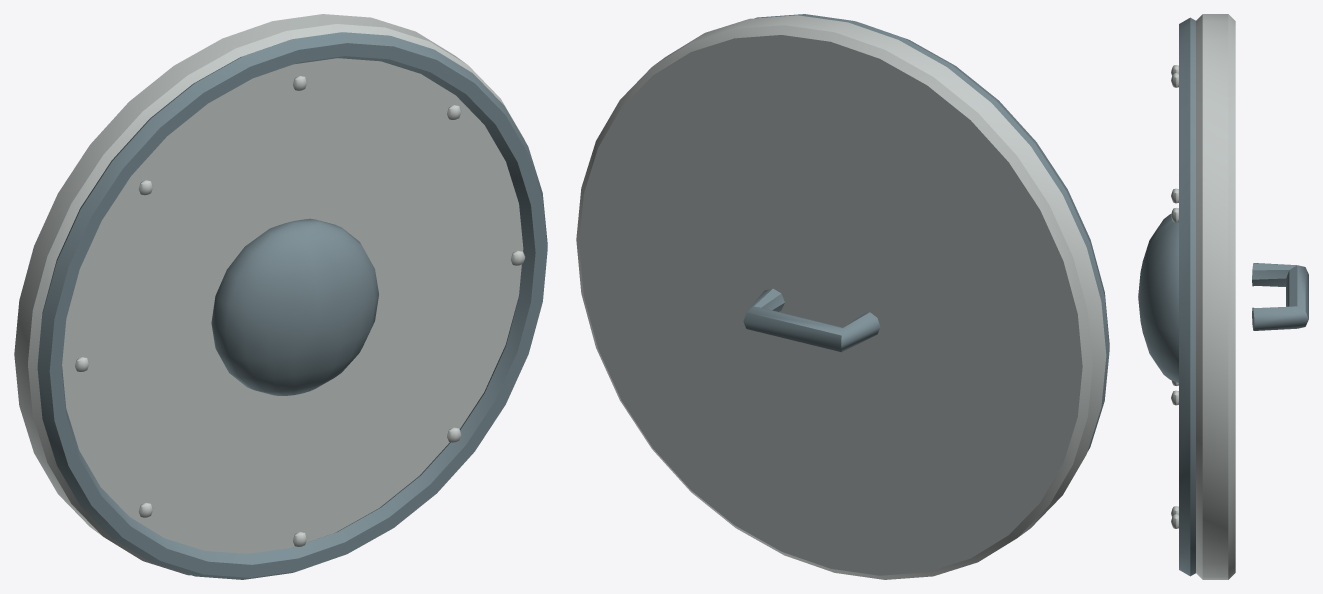
Rendered from shield.glb.
3 renders of one model, left to right at view 1: azimuth 30°, elevation 25°; view 2: azimuth 150°, elevation 25°; view 3: azimuth 270°, elevation 25°, orthographic. The views are drawn at different scales.
Visible parts, largest first — view 1: shield_disc, raised_rim, central_boss; view 2: shield_disc, back_grip, raised_rim; view 3: shield_disc, raised_rim, central_boss, back_grip.
Part boxes in pixels (x1=…): shield_disc: x1=14, y1=14, x2=524, y2=575; raised_rim: x1=37, y1=32, x2=547, y2=579; central_boss: x1=211, y1=218, x2=378, y2=395; shield_disc: x1=576, y1=15, x2=1106, y2=579; back_grip: x1=743, y1=288, x2=880, y2=352; raised_rim: x1=755, y1=14, x2=1109, y2=451; shield_disc: x1=1196, y1=14, x2=1235, y2=579; raised_rim: x1=1179, y1=17, x2=1195, y2=576; central_boss: x1=1138, y1=214, x2=1178, y2=382; back_grip: x1=1252, y1=263, x2=1308, y2=330.
Bounding box in the file's own units: 0.64 × 0.64 × 0.1928.
